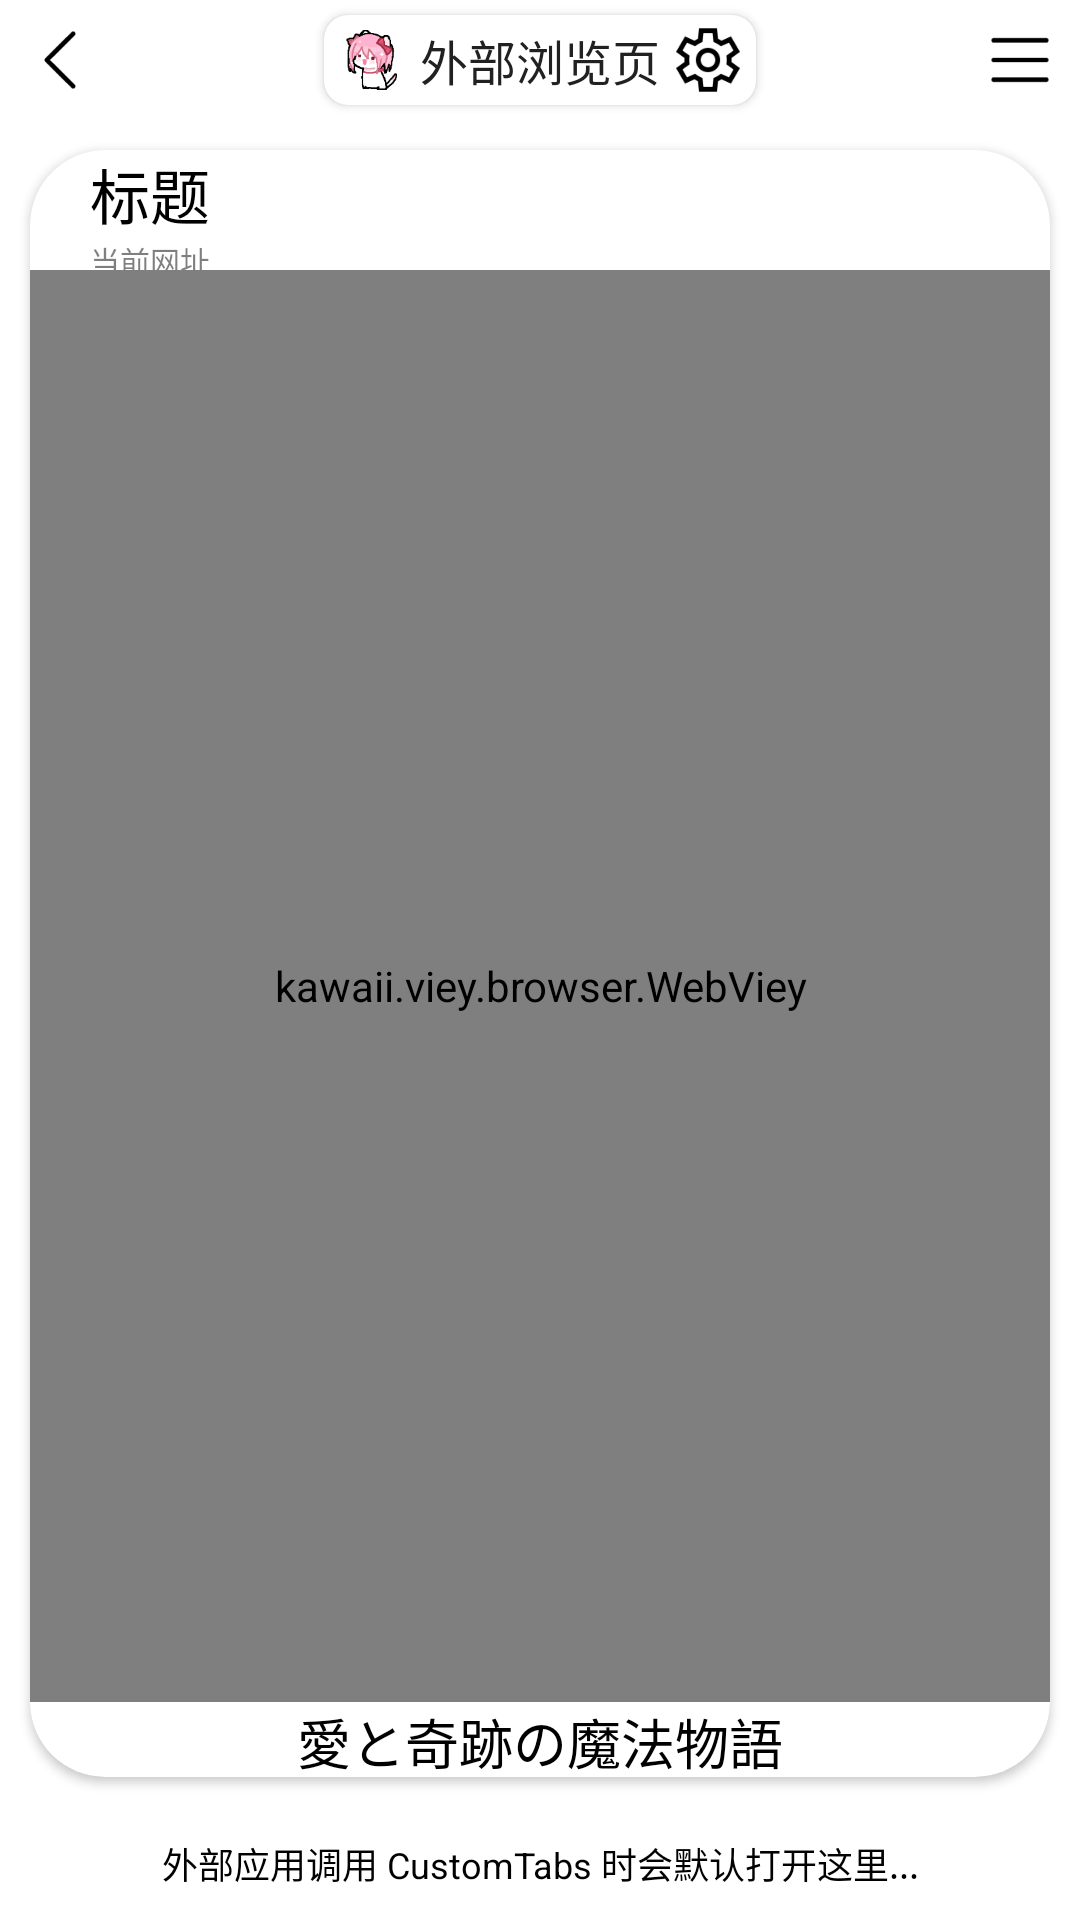

Icon bounding boxes for this 1080*1920 phone screenshot, format (x1, y1, x2, y2):
arrow back: (44, 31, 76, 89)
menu: (991, 37, 1049, 83)
setting: (676, 15, 756, 105)
